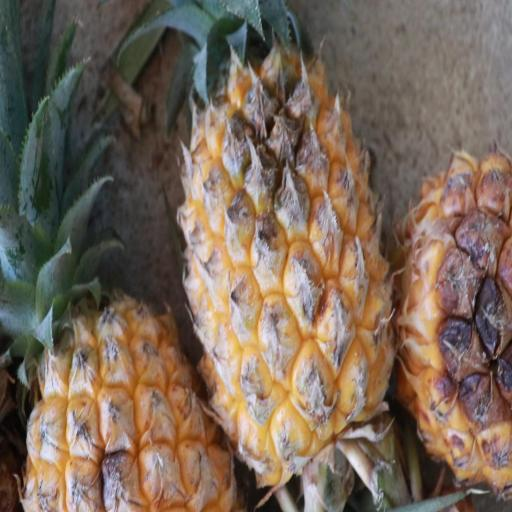Pineapple - v8 v1: (175, 8, 394, 478), (18, 141, 252, 512)
